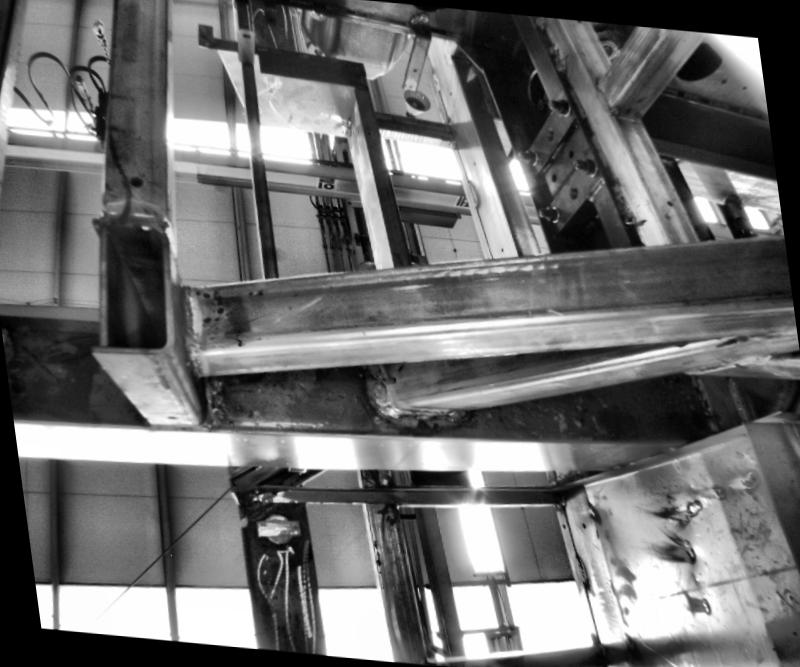bolt: (572, 156, 599, 178), (544, 96, 570, 117), (532, 205, 560, 222), (514, 148, 538, 167)
bracket: (484, 85, 615, 239), (392, 8, 438, 99), (229, 25, 258, 68)
hole: (127, 174, 144, 189), (378, 374, 396, 386), (567, 186, 579, 200), (622, 107, 634, 118), (166, 412, 178, 420), (550, 170, 556, 182), (241, 32, 250, 39), (664, 200, 674, 206), (568, 150, 574, 158), (580, 523, 586, 530), (410, 66, 416, 72), (471, 161, 477, 167), (408, 84, 412, 88), (562, 524, 565, 529), (500, 248, 503, 252), (450, 92, 452, 96)
welding: (178, 280, 204, 360), (370, 360, 400, 418), (375, 405, 464, 422), (574, 553, 588, 589), (606, 108, 642, 122), (468, 181, 476, 206)
